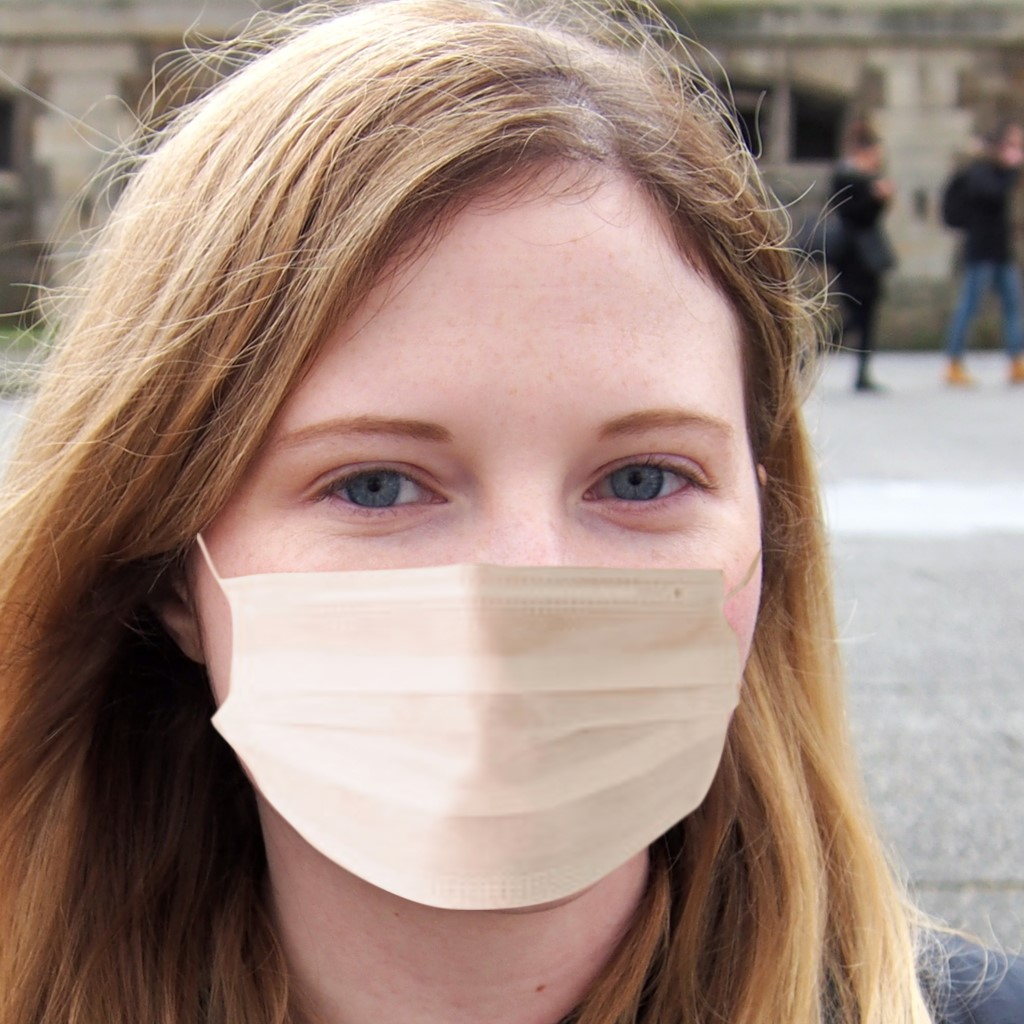con_mascara: (211, 170, 762, 909)
